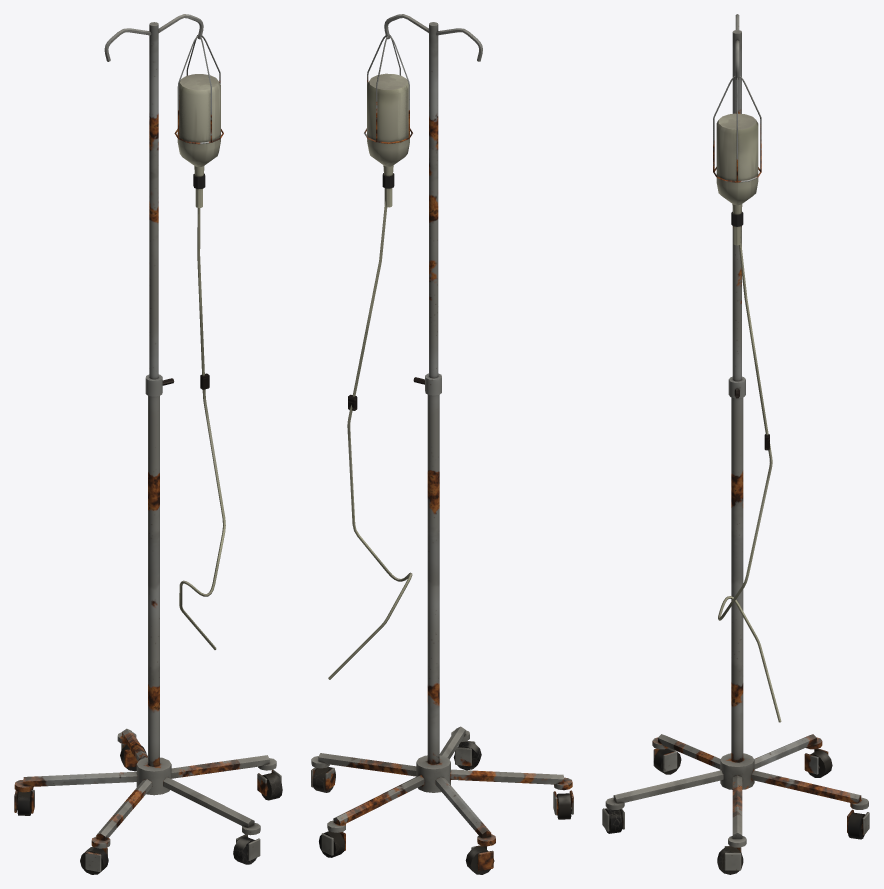
Rendered from IVStand.fbx.
3 views of the same model, side by side, from view 1: azimuth 30°, elevation 25°; view 2: azimuth 150°, elevation 25°; view 3: azimuth 270°, elevation 25° (orthographic).
Visible parts, largest first — view 1: IVStand; view 2: IVStand; view 3: IVStand.
Part boxes in pixels (x1,y1,x2,y2): IVStand: (14, 14, 282, 874); IVStand: (311, 14, 573, 874); IVStand: (602, 14, 869, 874).
Bounding box in the file's own units: 1.81 × 6.1 × 1.87.
1 material, 1 textured.
